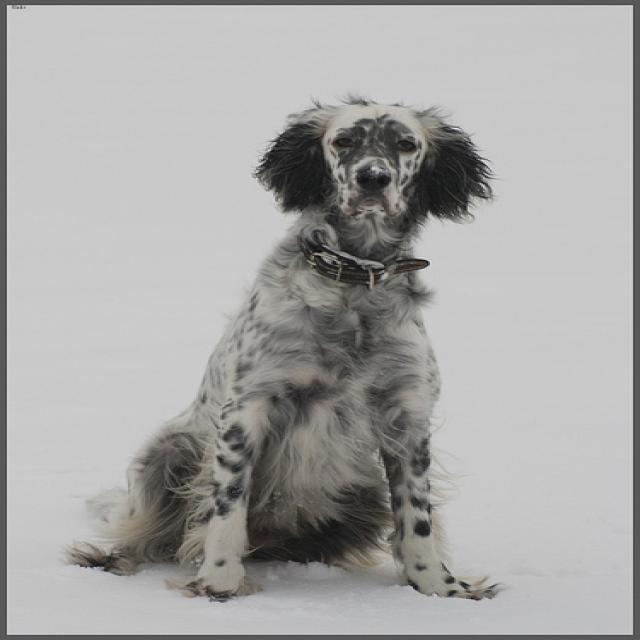dog-english_setter: (56, 87, 512, 613)
